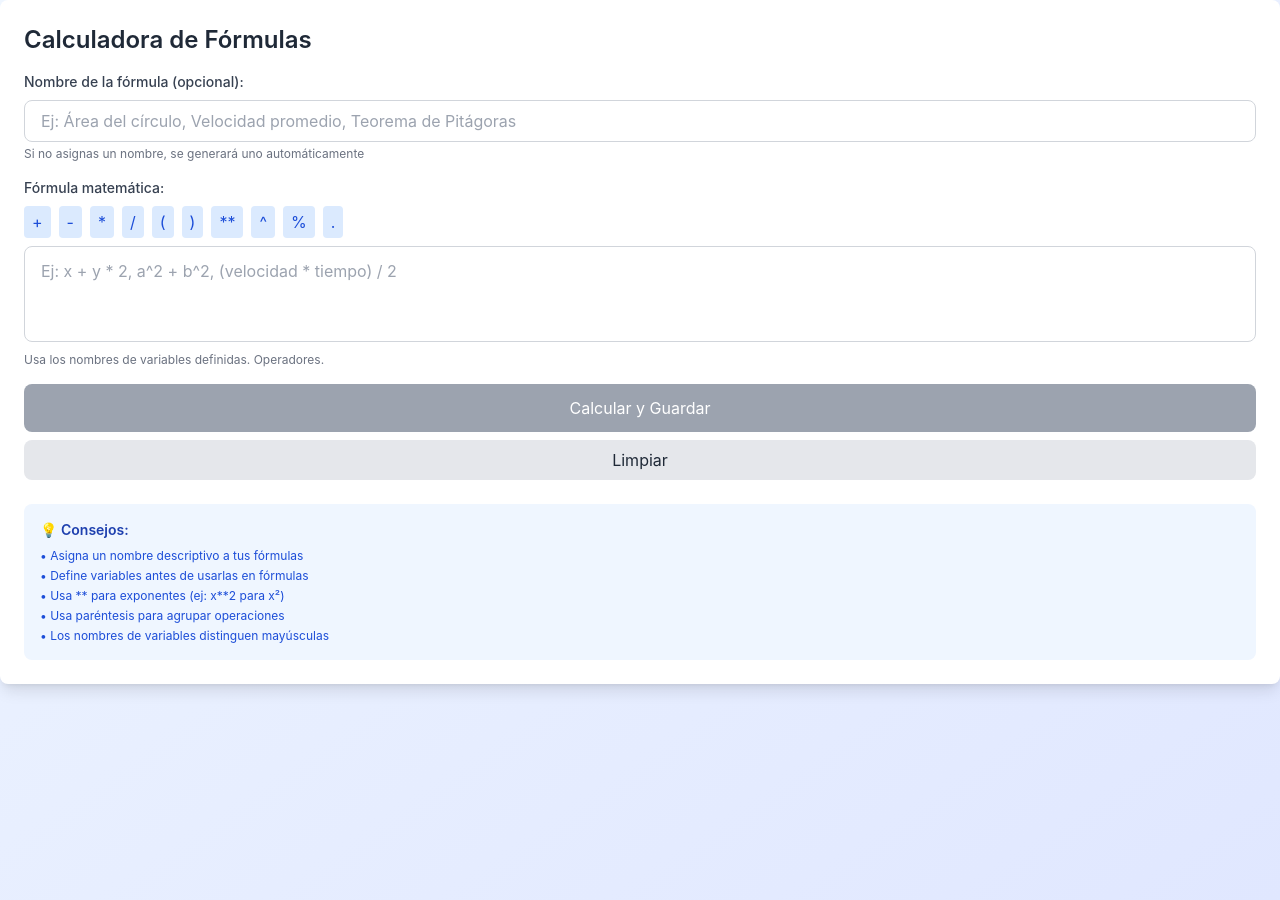
Test case: muestra mensaje de error con fórmula inválida
In the text box with placeholder "Ej: x + y * 2, a^2 + b^2, (velocidad * tiempo) / 2": point(640, 294) [24,246,1256,342], type "x +"
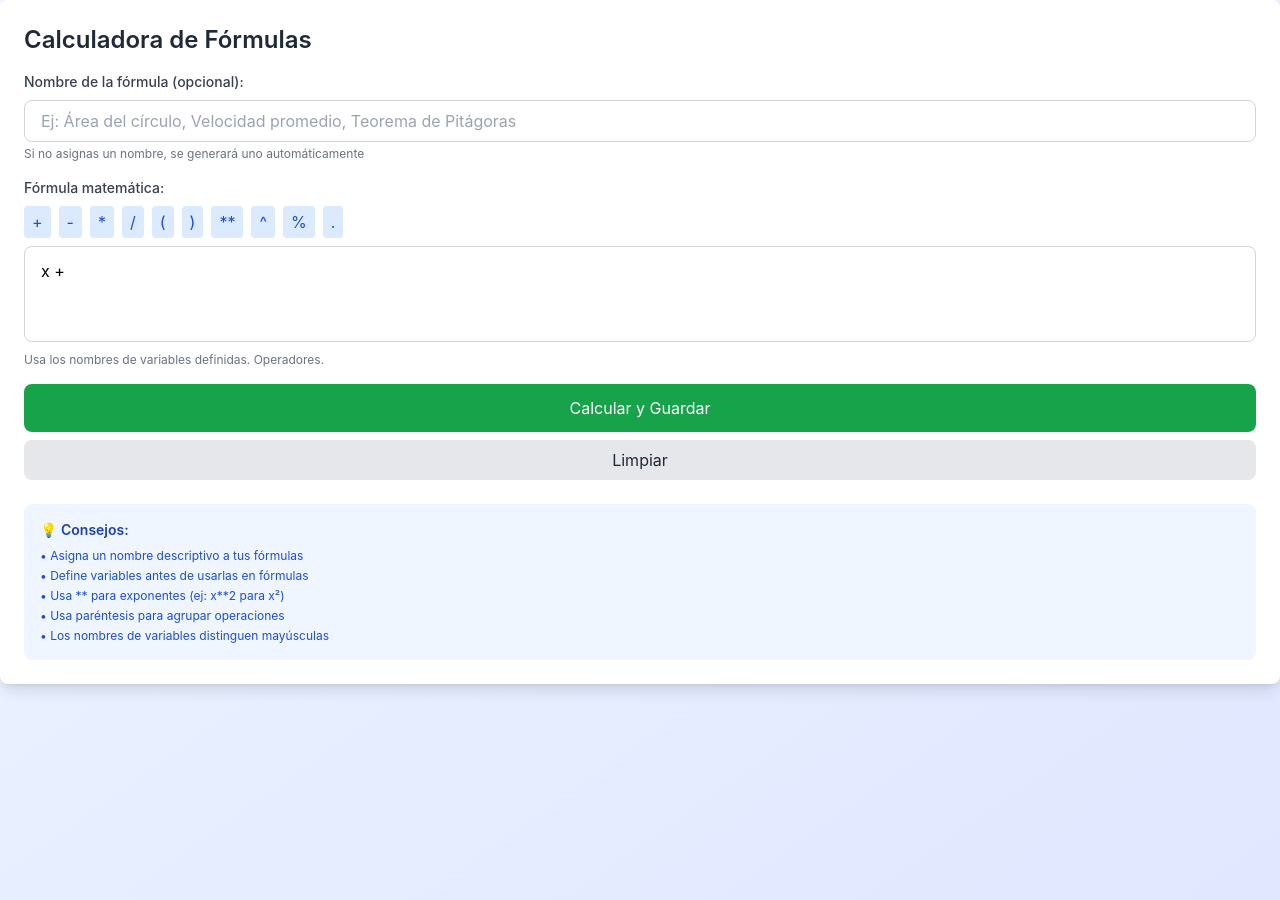
Click the button "Calcular y Guardar": point(640, 408) [24,384,1256,432]
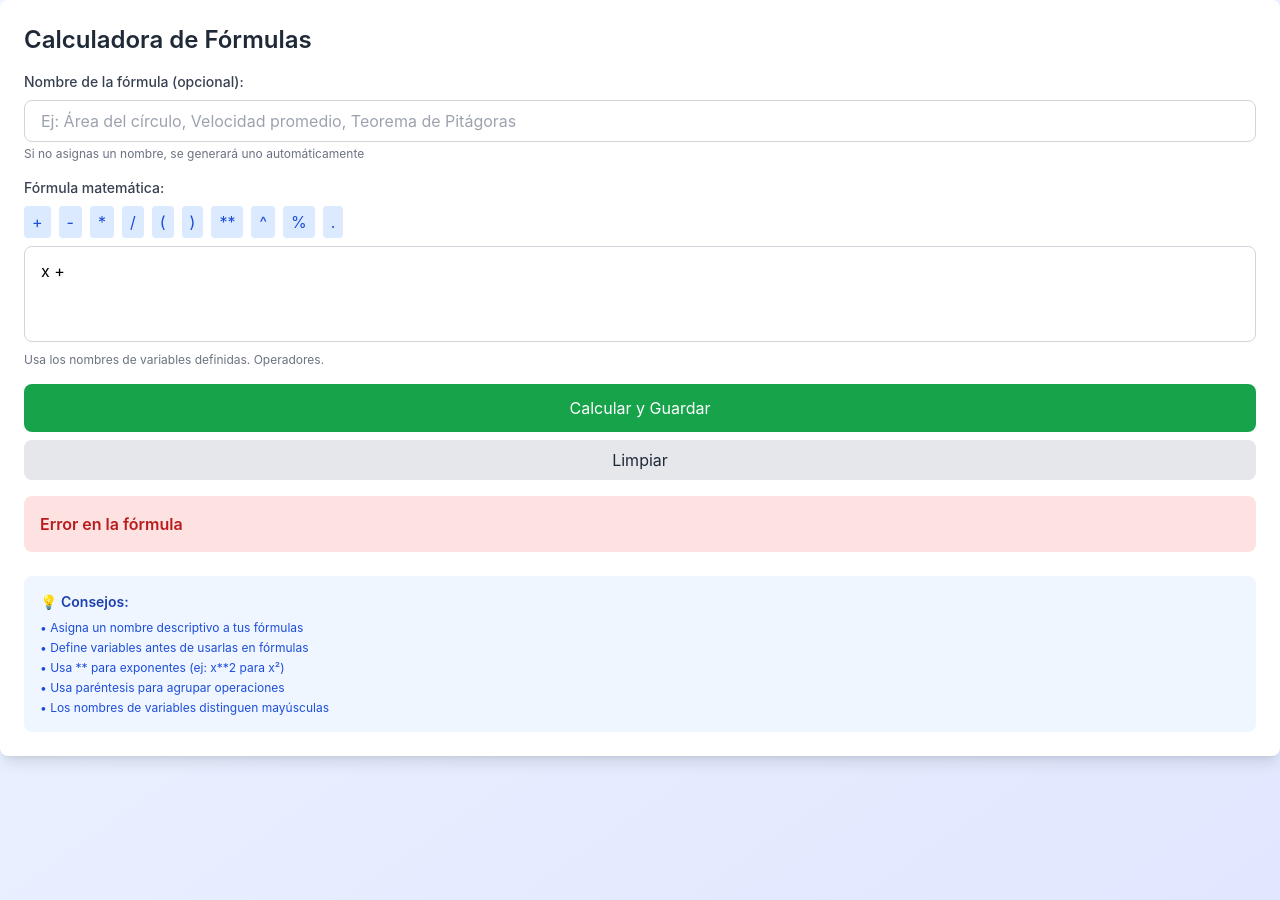
Check: the text "Error en la fórmula" is shown, box [40,514,183,534]
